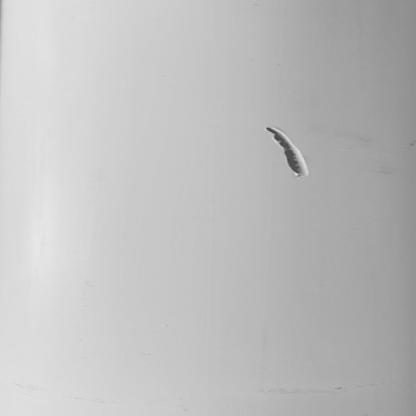sunshang: (265, 123, 317, 181)
